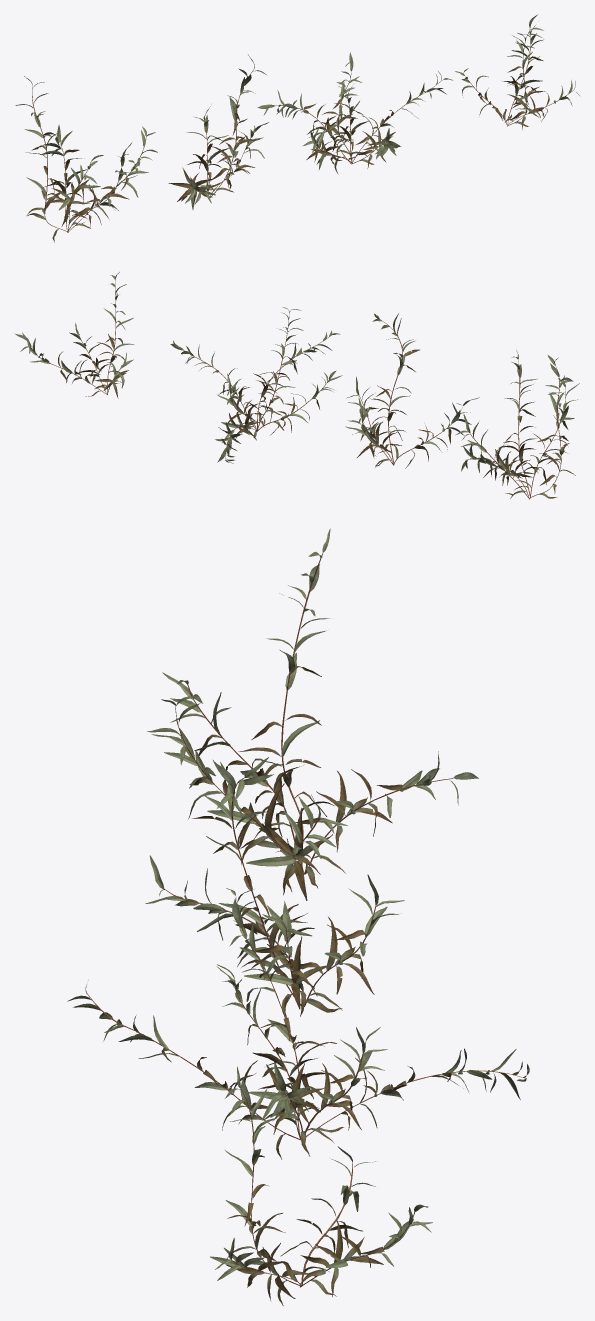
Rendered from shrub_02.glb.
3 views of the same model, one above another, from view 1: azimuth 30°, elevation 25°; view 2: azimuth 150°, elevation 25°; view 3: azimuth 270°, elevation 25° (orthographic). The views are drawn at different scales.
Parts seen in each view (by area): view 1: shrub_02_c, shrub_02_a, shrub_02_b, shrub_02_d; view 2: shrub_02_a, shrub_02_c, shrub_02_b, shrub_02_d; view 3: shrub_02_a, shrub_02_c, shrub_02_b, shrub_02_d.
Boxes of the visible parts, left/top/right/bottom form: shrub_02_c: left=257, top=52, right=452, bottom=174; shrub_02_a: left=15, top=76, right=157, bottom=242; shrub_02_b: left=168, top=54, right=268, bottom=209; shrub_02_d: left=455, top=14, right=580, bottom=129; shrub_02_a: left=455, top=350, right=579, bottom=499; shrub_02_c: left=170, top=307, right=342, bottom=463; shrub_02_b: left=345, top=313, right=479, bottom=468; shrub_02_d: left=14, top=272, right=134, bottom=398; shrub_02_a: left=147, top=528, right=478, bottom=900; shrub_02_c: left=67, top=888, right=529, bottom=1159; shrub_02_b: left=145, top=757, right=404, bottom=1018; shrub_02_d: left=210, top=1066, right=432, bottom=1305.
Size of the model in its own units: 6.05 by 1.7 by 2.29.
1 material, 1 textured.
